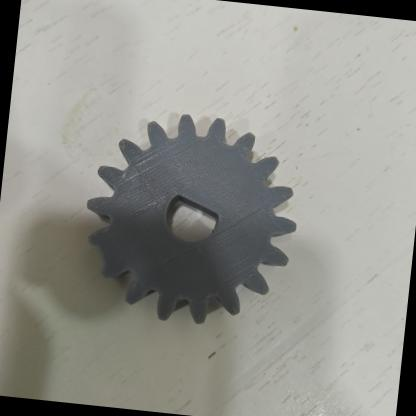defect: (162, 174, 228, 228), (72, 221, 125, 287)
gear: (60, 96, 320, 350)
